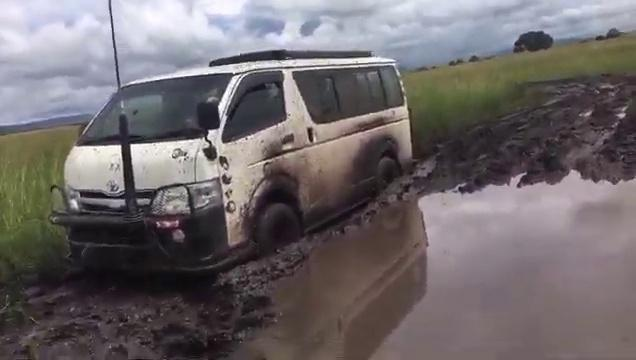Van: (58, 46, 416, 271)
